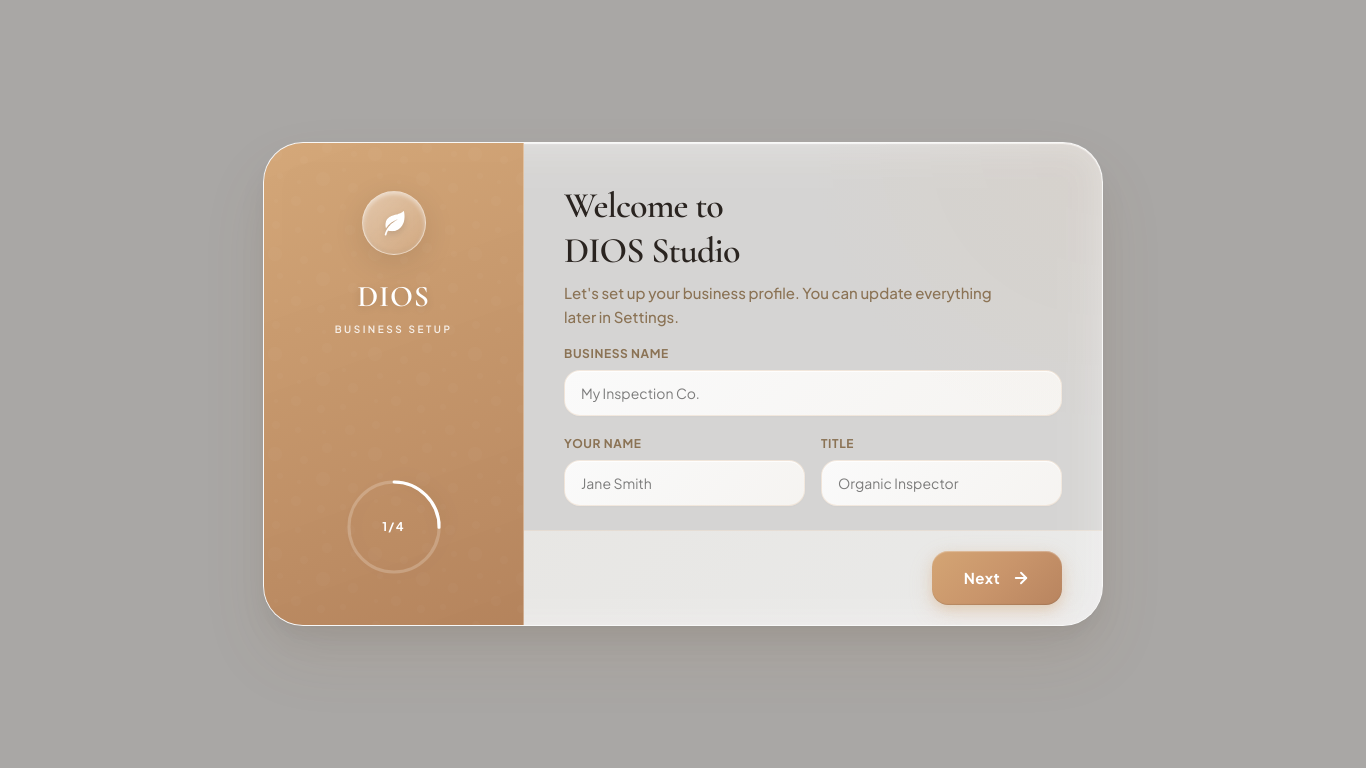
OnboardingWizard › Next button advances to step 1 (address step)
This screenshot has width=1366, height=768.
Click the button "Next". click: (997, 578)
box: [932,551,1062,605]
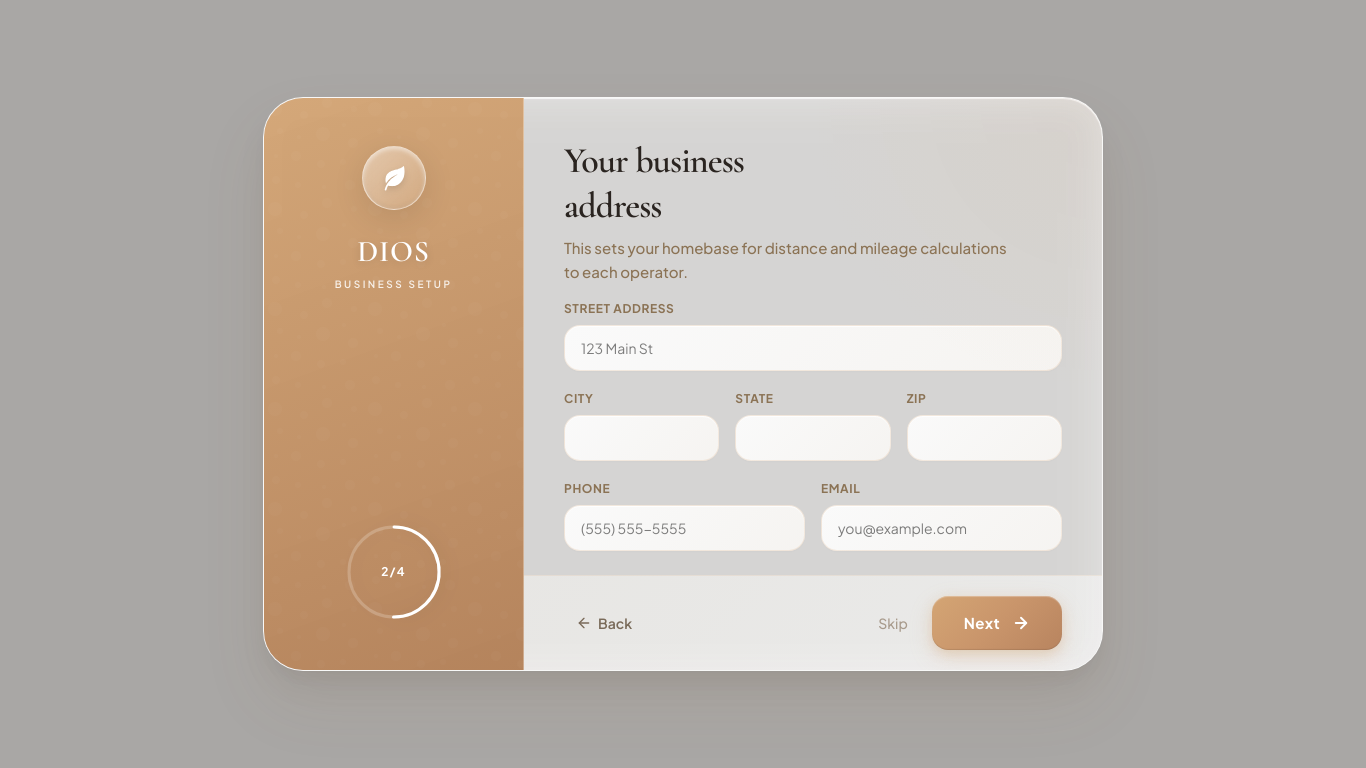
expect the text "Street Address" is shown: met, box [564,301,674,316]
